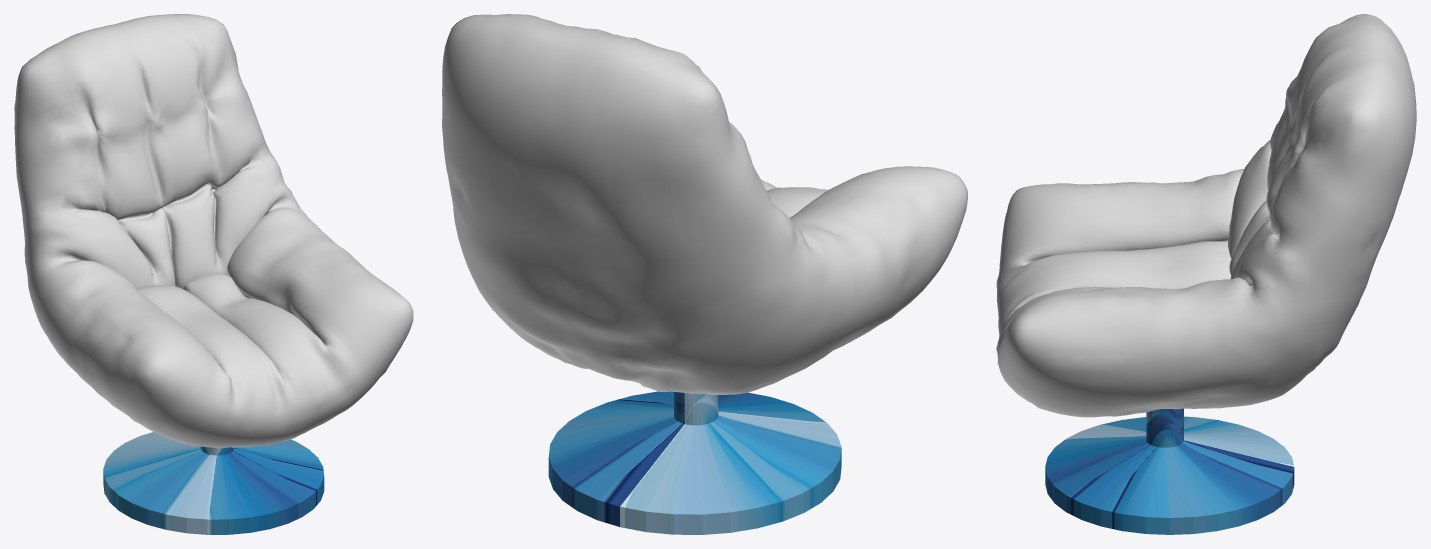
The model's file is LR-chair.glb.
The picture shows the model from 3 angles, left to right: view 1: azimuth 30°, elevation 25°; view 2: azimuth 150°, elevation 25°; view 3: azimuth 270°, elevation 25°; orthographic projection. The views are drawn at different scales.
Visible parts, largest first — view 1: Cube, Cylinder; view 2: Cube, Cylinder; view 3: Cube, Cylinder.
Part boxes in pixels (x1=…): Cube: x1=14, y1=14, x2=413, y2=448; Cylinder: x1=103, y1=432, x2=324, y2=534; Cube: x1=442, y1=14, x2=967, y2=394; Cylinder: x1=548, y1=391, x2=841, y2=534; Cube: x1=996, y1=14, x2=1416, y2=417; Cylinder: x1=1045, y1=408, x2=1294, y2=534.
Bounding box in the file's own units: 2.17 × 2.87 × 2.51.
Materials: 2 (1 with a texture image).
